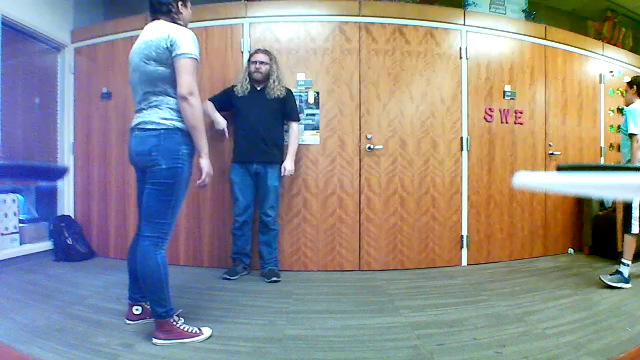down: (207, 110, 231, 144)
